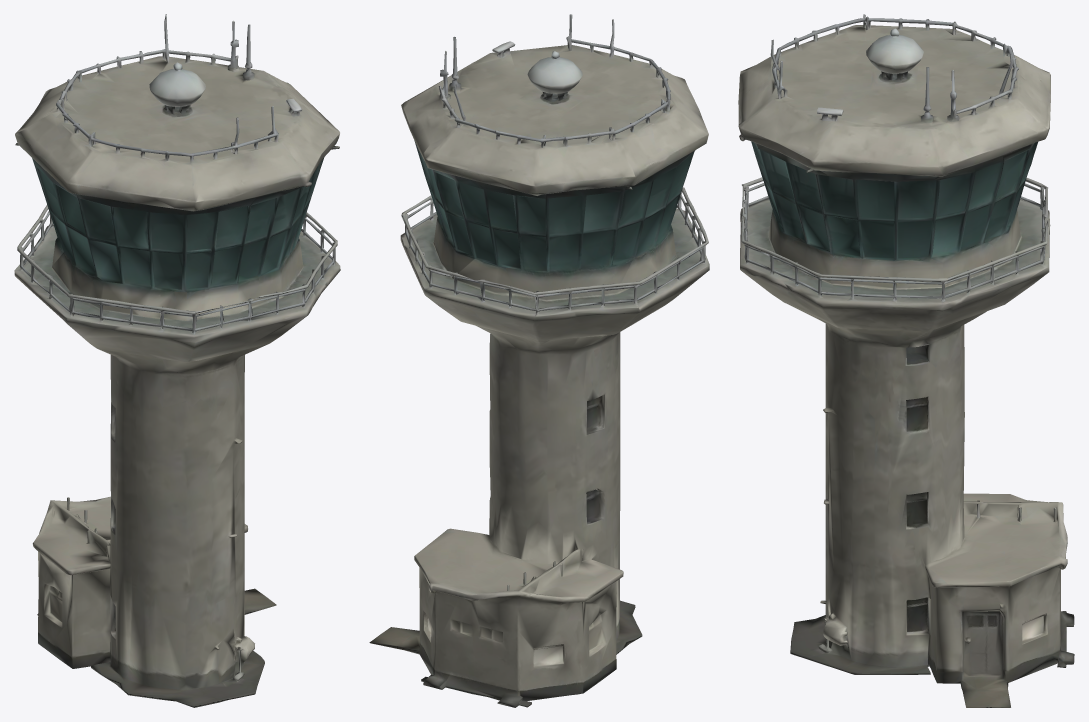
File: control_tower.glb
3 renders of one model, left to right at view 1: azimuth 30°, elevation 25°; view 2: azimuth 150°, elevation 25°; view 3: azimuth 270°, elevation 25°, orthographic. The views are drawn at different scales.
Parts seen in each view (by area): view 1: tripo_node_0c583b37-5496-4e1d-a5ad-354700af9185; view 2: tripo_node_0c583b37-5496-4e1d-a5ad-354700af9185; view 3: tripo_node_0c583b37-5496-4e1d-a5ad-354700af9185.
Boxes of the visible parts, x1=… form: tripo_node_0c583b37-5496-4e1d-a5ad-354700af9185: x1=14, y1=14, x2=340, y2=707; tripo_node_0c583b37-5496-4e1d-a5ad-354700af9185: x1=369, y1=14, x2=709, y2=707; tripo_node_0c583b37-5496-4e1d-a5ad-354700af9185: x1=738, y1=14, x2=1074, y2=707.
Bounding box in the file's own units: 0.467 × 1 × 0.4932.
Materials: 1 (1 with a texture image).
